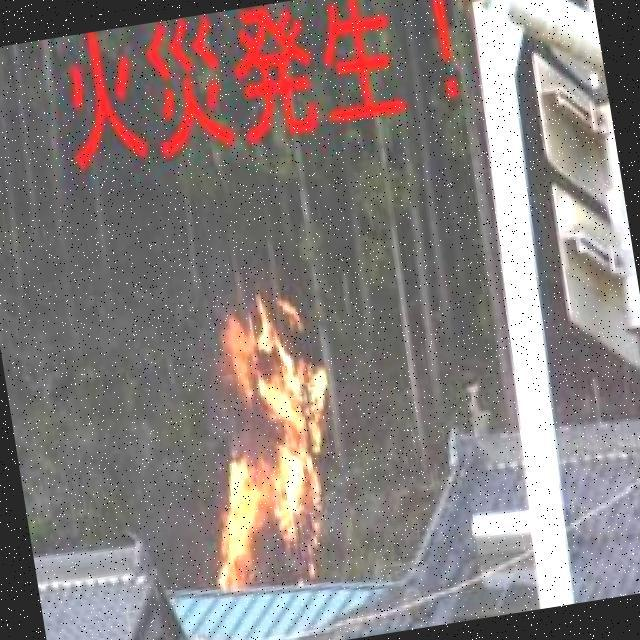Fire: (174, 299, 368, 600)
